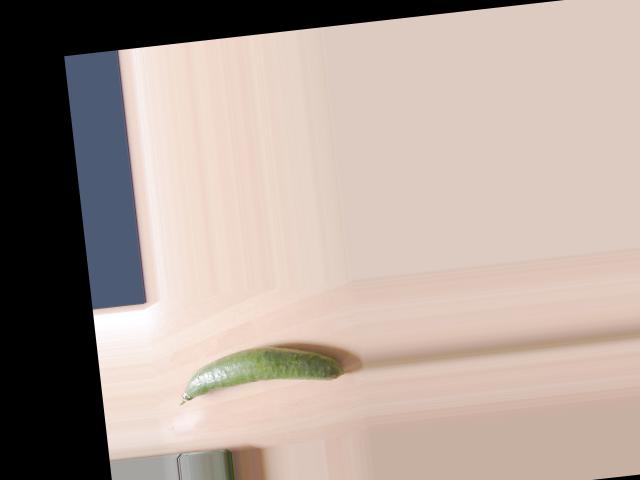cucumber: (173, 337, 347, 405)
